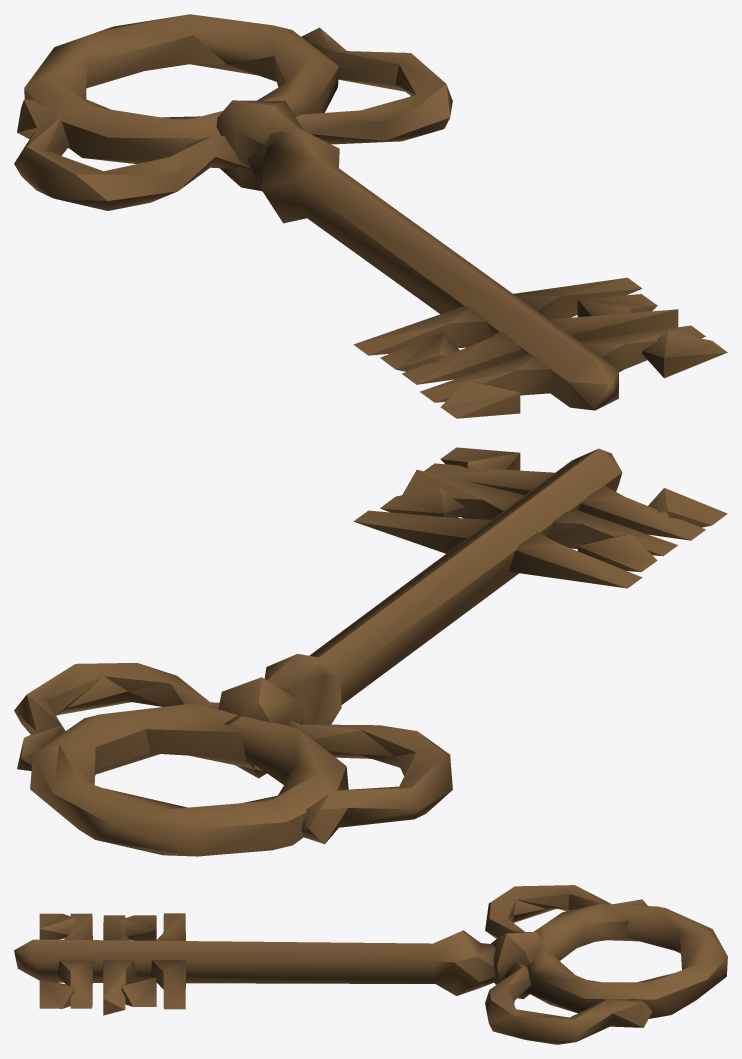
File: pq_cle_or.glb
The picture shows the model from 3 angles, top to bottom: view 1: azimuth 30°, elevation 25°; view 2: azimuth 150°, elevation 25°; view 3: azimuth 270°, elevation 25°; orthographic projection. The views are drawn at different scales.
Parts seen in each view (by area): view 1: Key_Gold; view 2: Key_Gold; view 3: Key_Gold.
Boxes of the visible parts, left/top/right/bottom form: Key_Gold: left=14, top=14, right=727, bottom=418; Key_Gold: left=14, top=447, right=727, bottom=856; Key_Gold: left=14, top=885, right=727, bottom=1044.
Size of the model in its own units: 0.0574 by 0.0121 by 0.1224.
